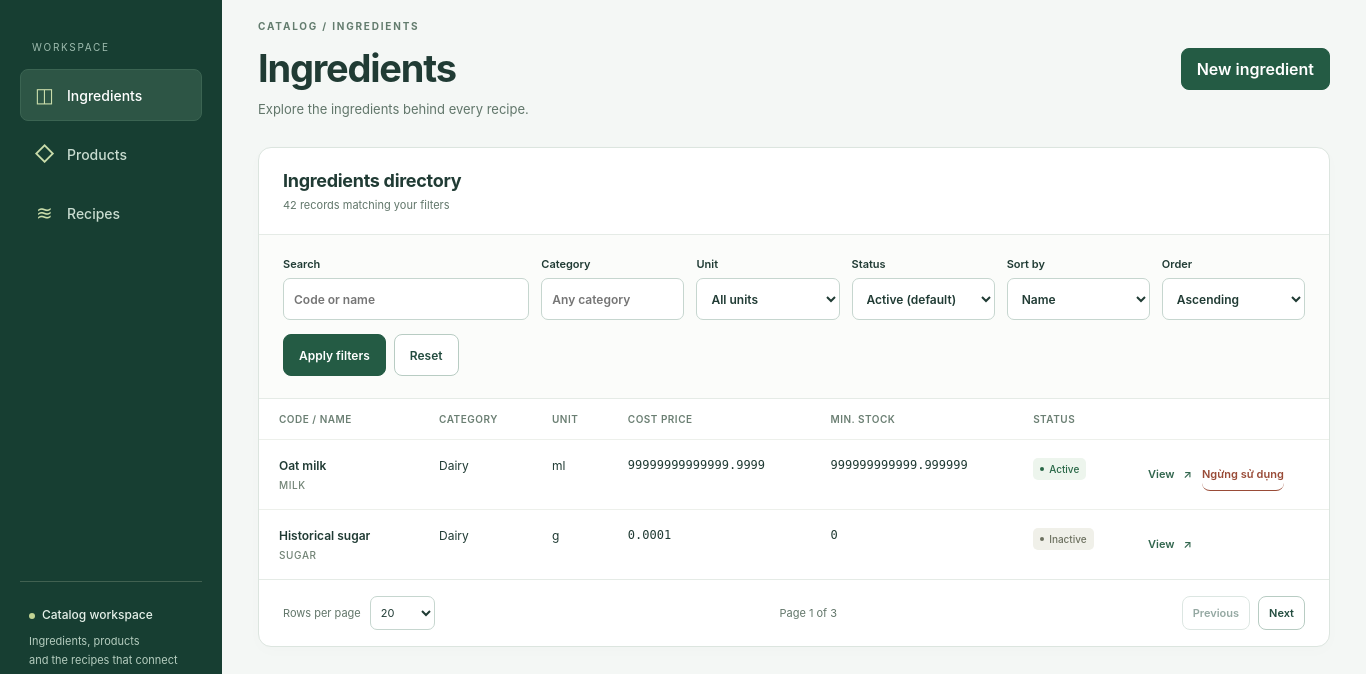
Test: catalog navigation and records › reads empty historical Recipes alongside populated rows and across pages without ingredient lookups for empty records
The width and height of the screenshot is (1366, 674).
Click the button "≋ Recipes" at (111, 213), box 20,187 -> 202,239
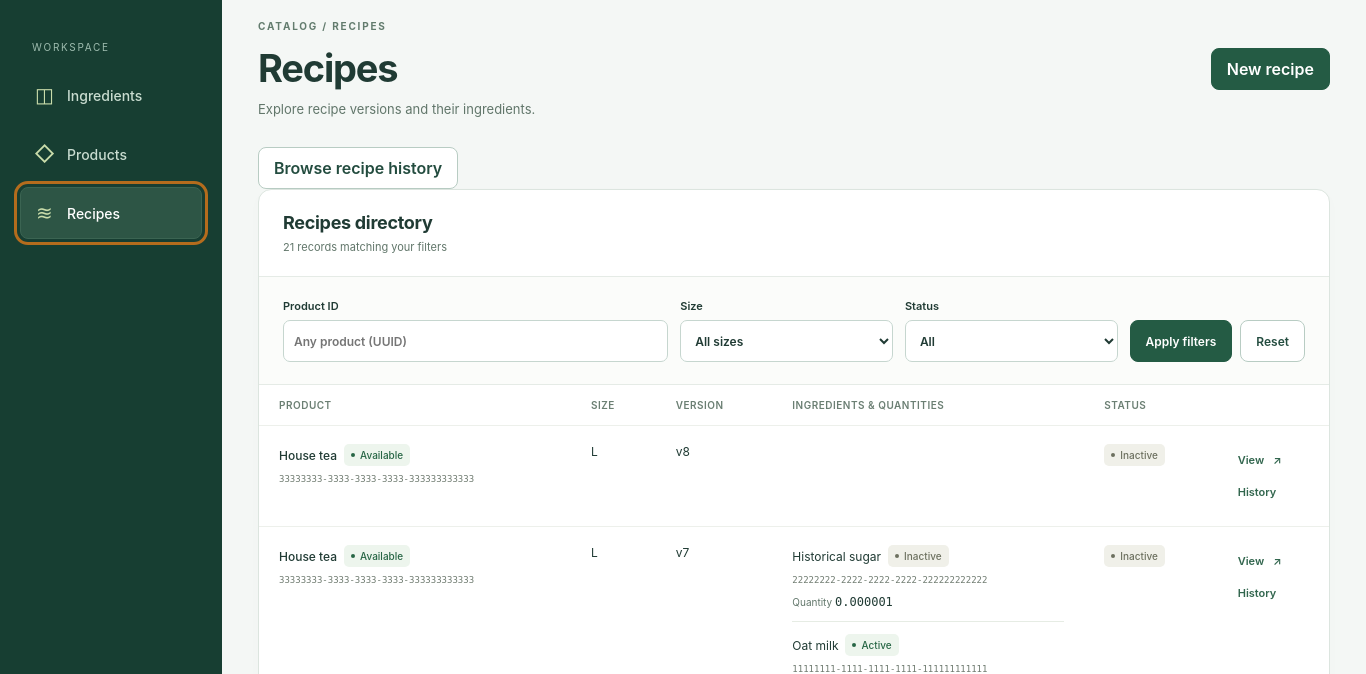
Check: the text "v8" is shown, box 656,426 -> 772,526
Check: the text "Historical sugar" is shown, box 792,548 -> 881,564
Check: the text "0.000001" is shown, box 835,595 -> 893,609
Click the button with aria-label "View recipe" at (1260, 460), box 1238,444 -> 1282,476
(page scrolled)
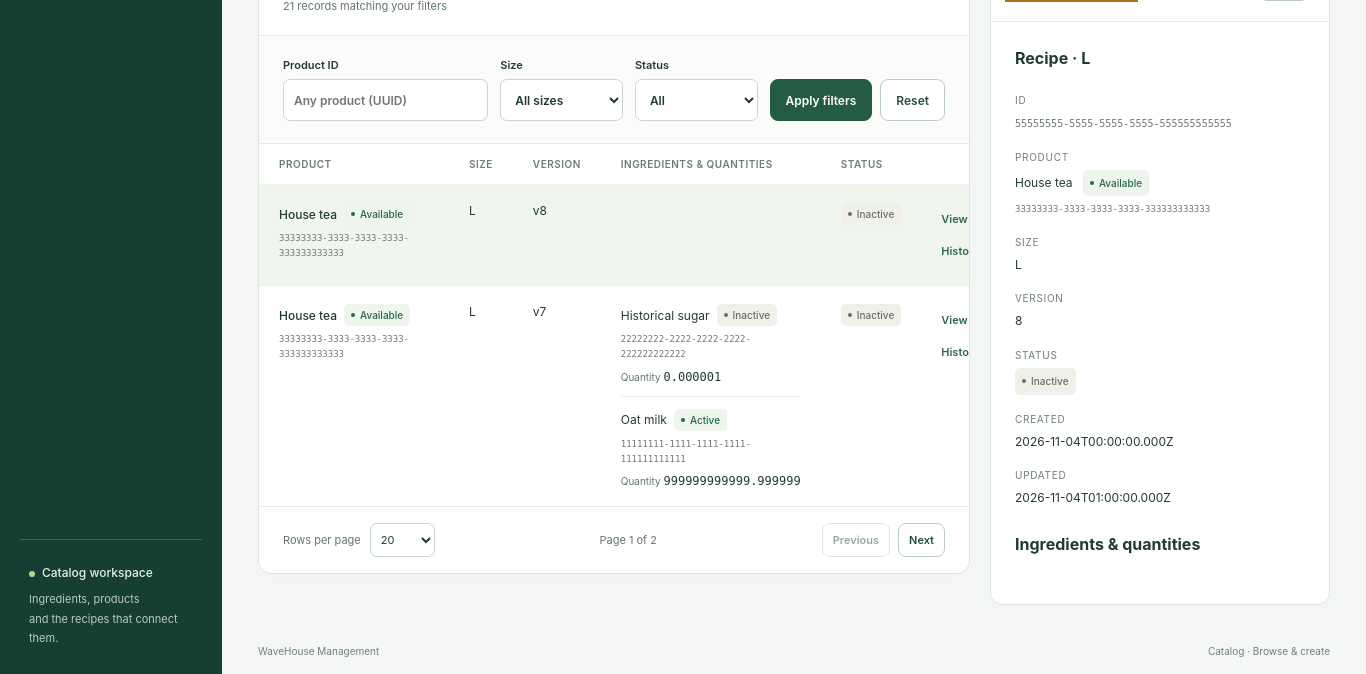
Check: the text "55555555-5555-5555-5555-555555555555" is shown, box 1015,118 -> 1232,129
Check: the heading "Ingredients & quantities" is shown, box 1015,534 -> 1200,554
Click the button "Next" at (922, 540), box 898,523 -> 945,557
(page scrolled)
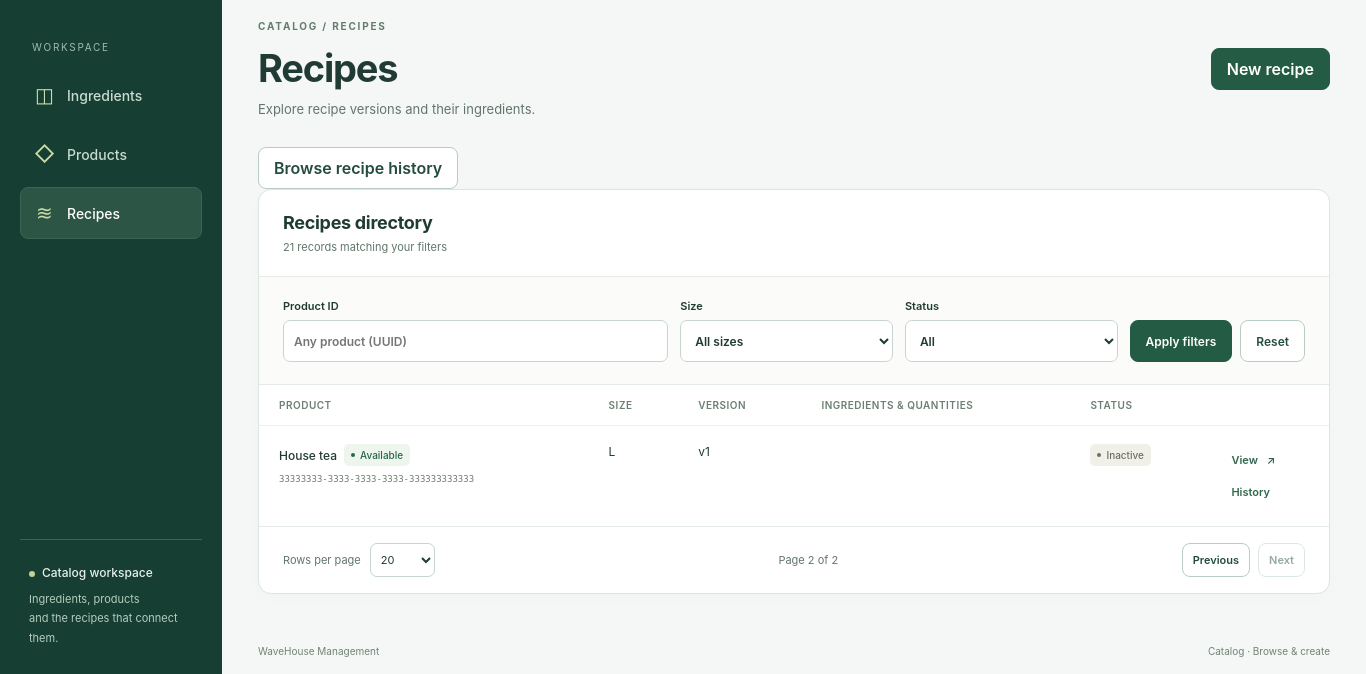
Check: the button "New recipe" is shown, box 1211,48 -> 1330,90
Check: the text "Page 2 of 2" is shown, box 778,553 -> 838,567
Check: the text "v1" is shown, box 678,426 -> 801,526
